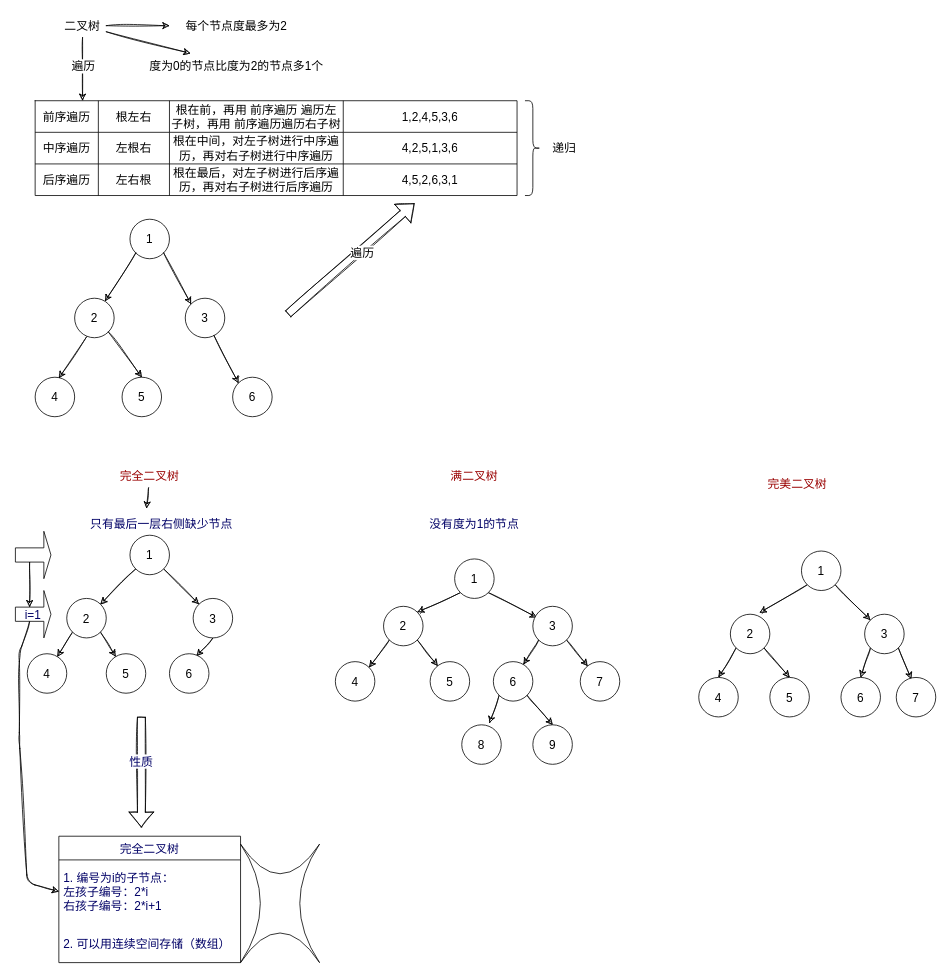
Image size: 950x976. Some labels were removed from this diagram. The centre of each missing label's shape, as x and y in pixels:
"i=0" goes at [33,554].
"节省 存储 空间" goes at [280,903].
